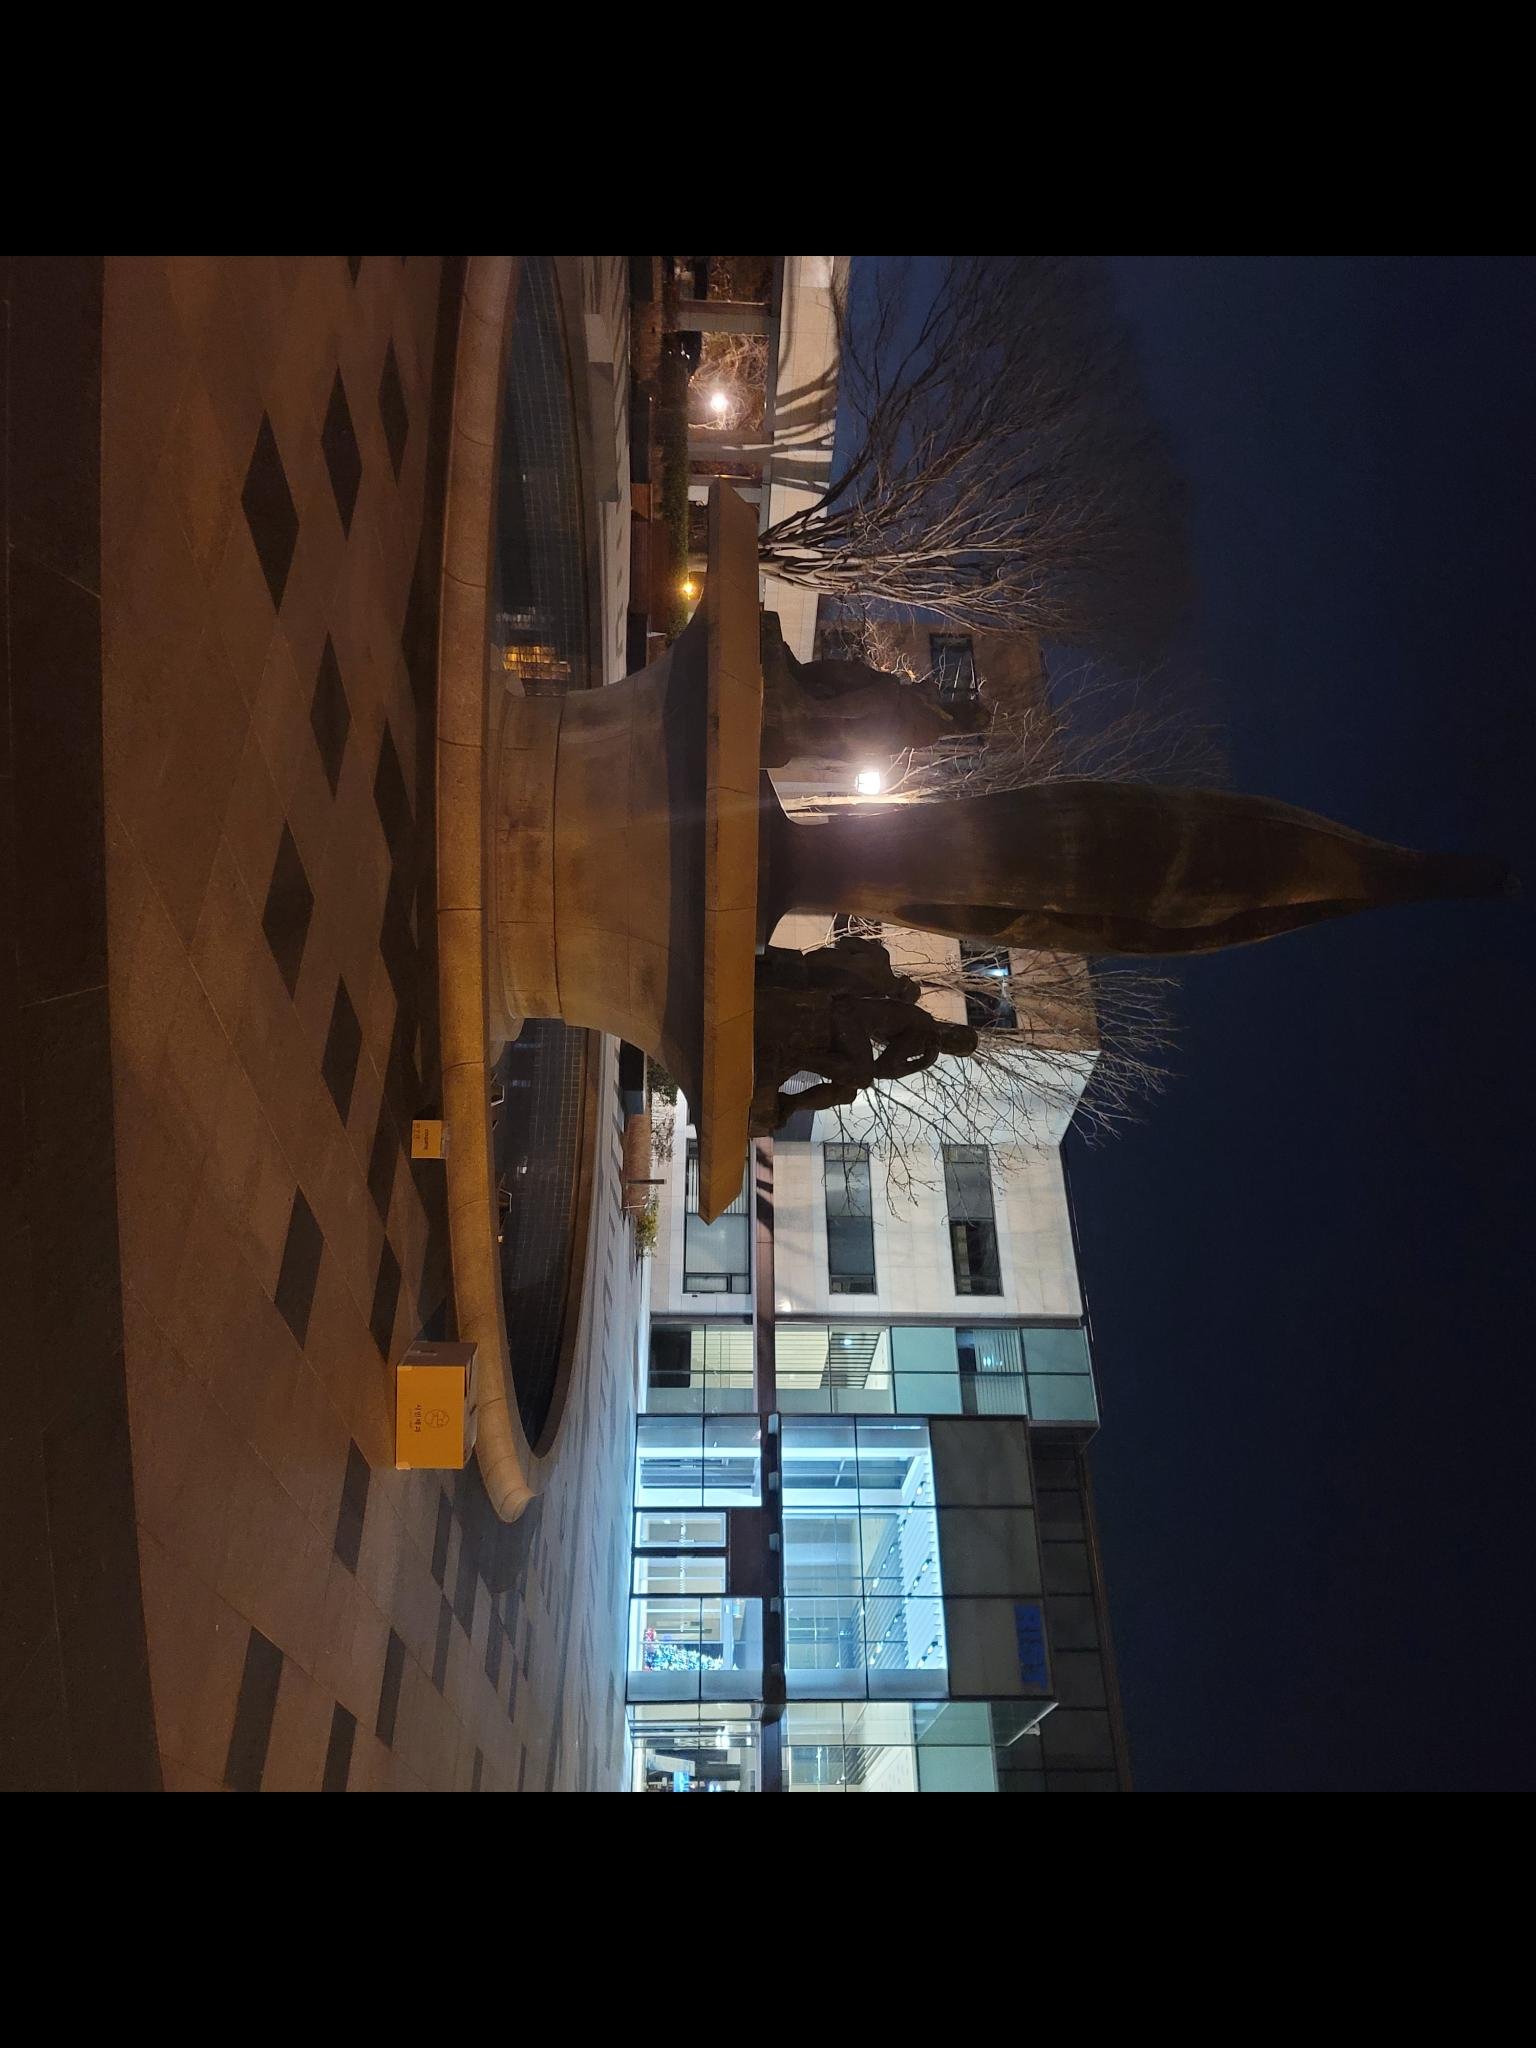Box: (389, 1338, 489, 1472), (407, 1109, 465, 1164)
